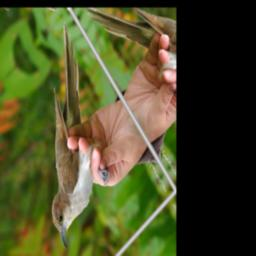Cuckoo: (0, 22, 145, 252)
